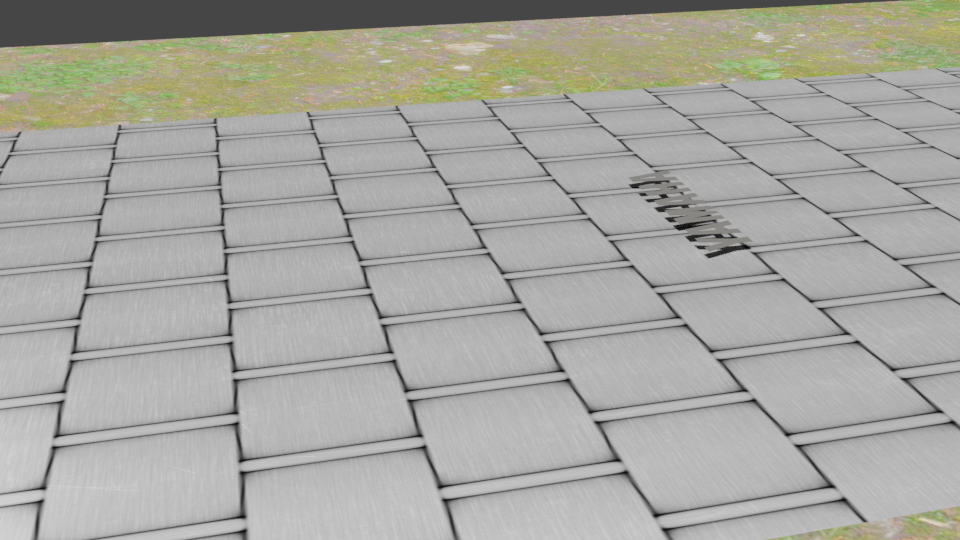yamaha_letters: (628, 169, 753, 252)
